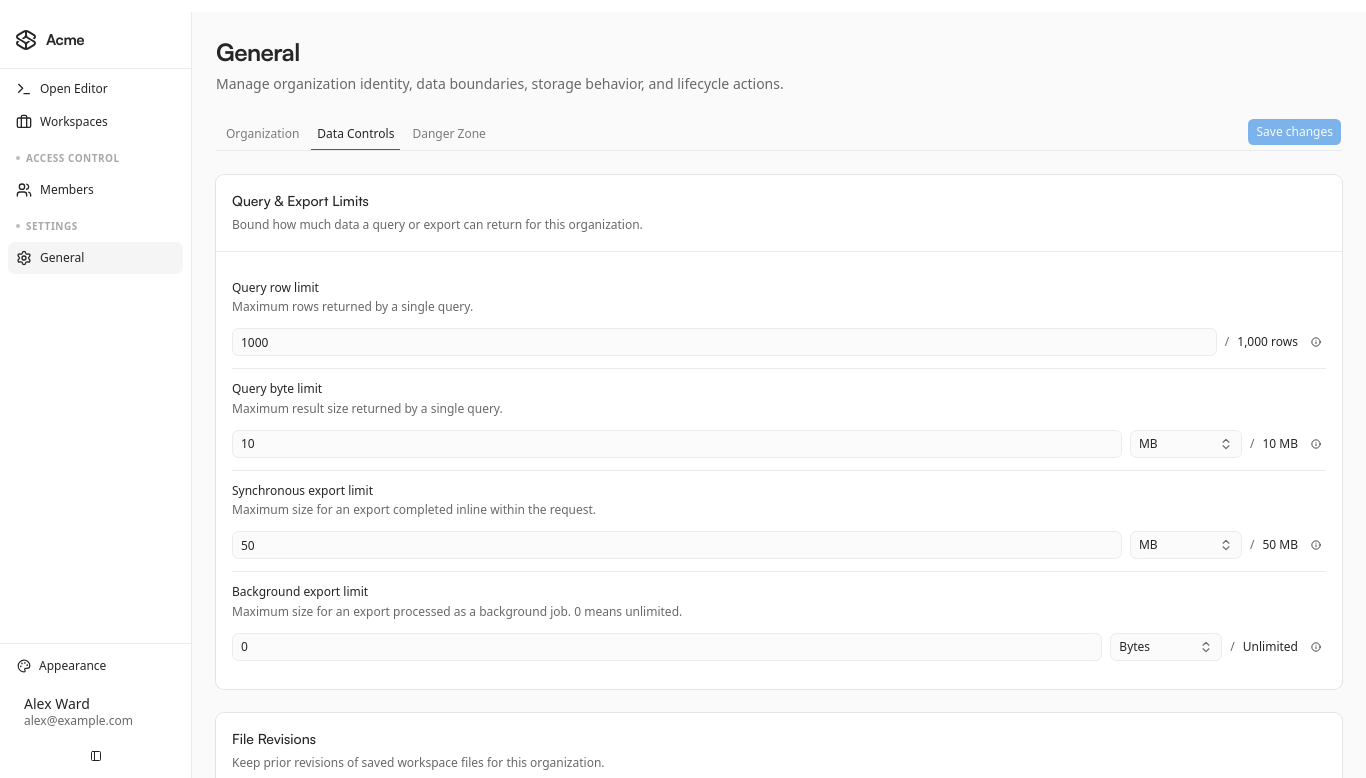
Test: organization general settings runtime tab › surfaces field validation errors returned by the API
Replace the text in the number field named "Query row limit" with "500": (724, 342) [232,328,1217,356]
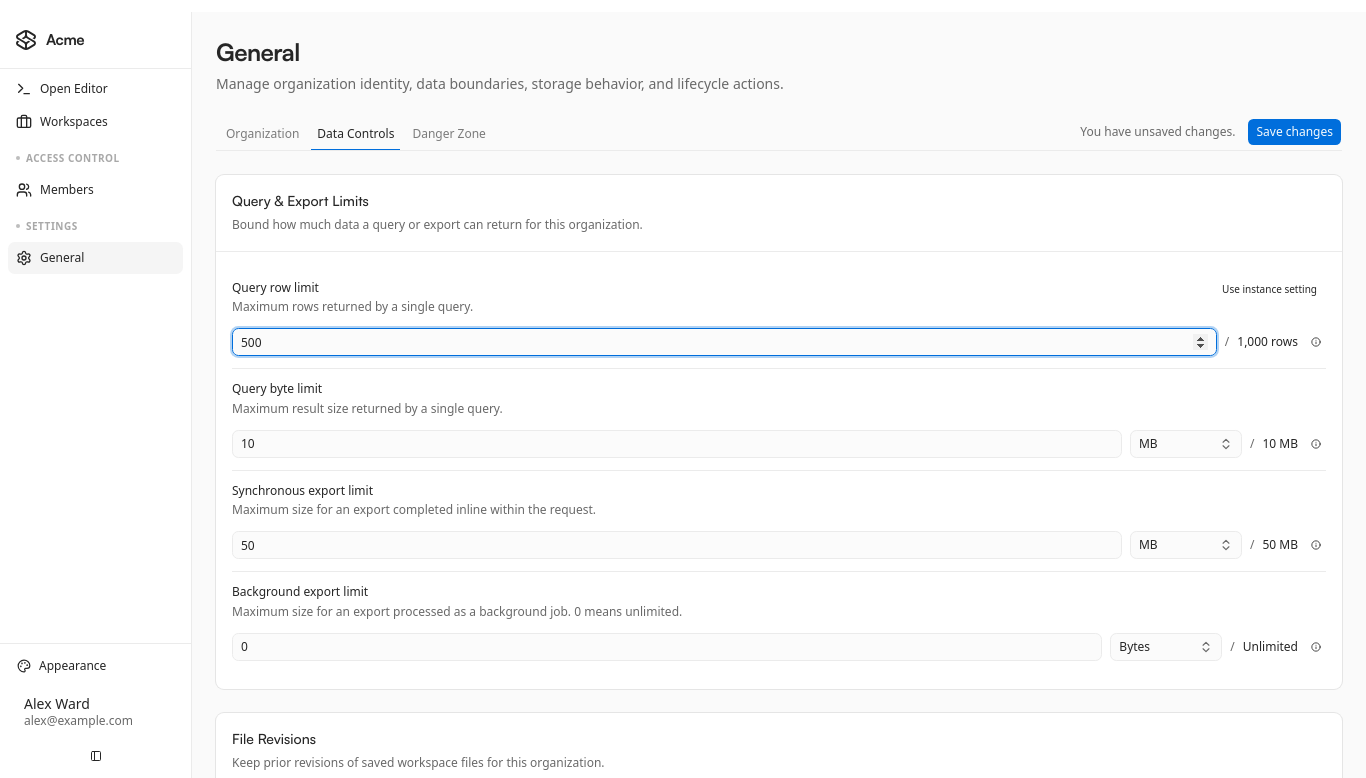
Click the button "Save changes": (1295, 132) [1248,118,1342,146]
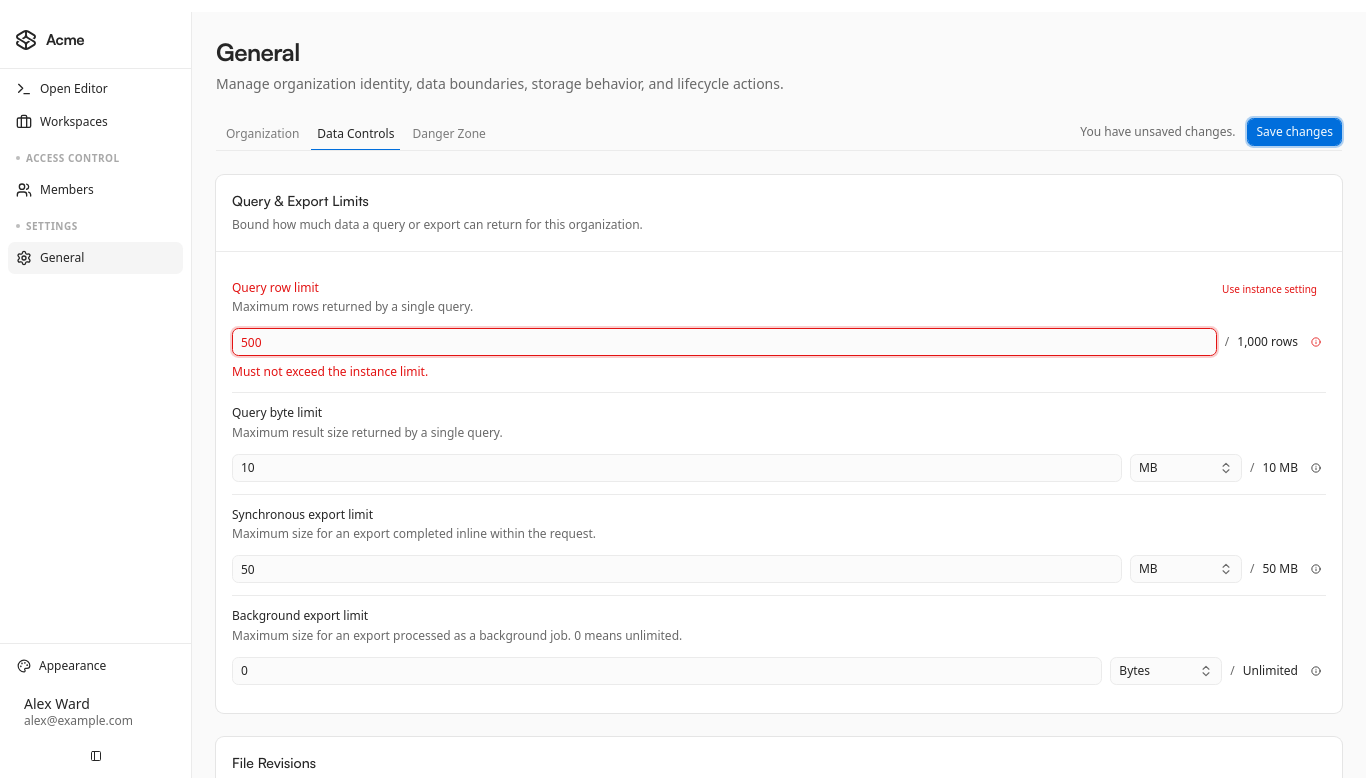
Expected: the text "Must not exceed the instance limit." is shown, [232,363,428,380]
